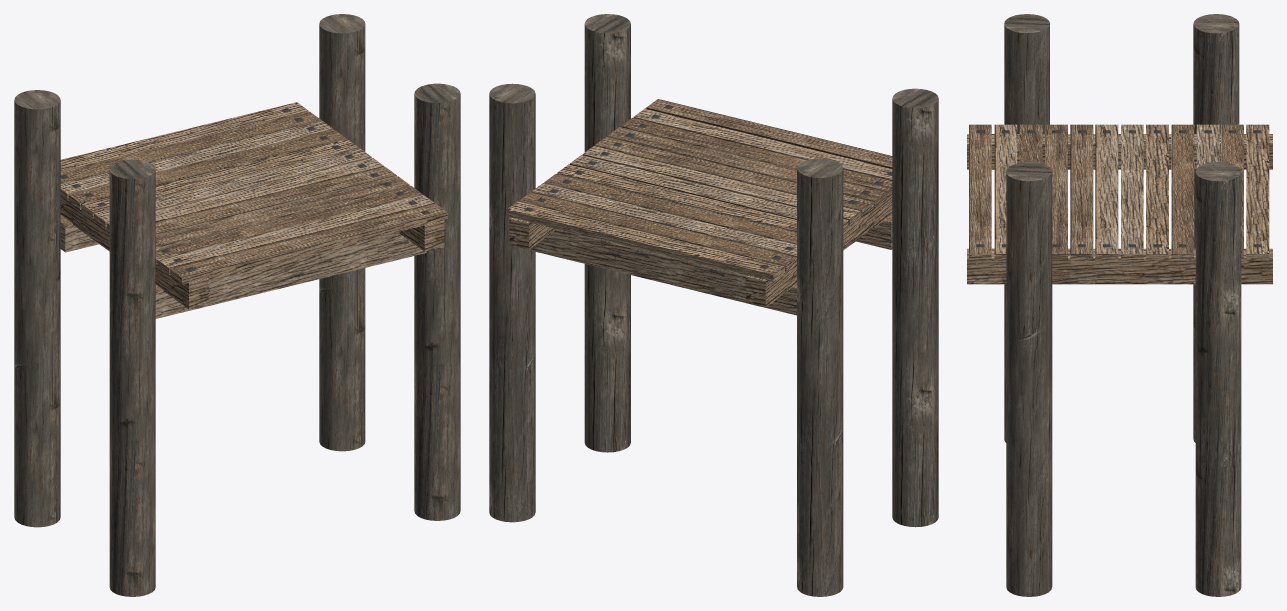
The model's file is nofunciona.fbx.
3 renders of one model, left to right at view 1: azimuth 30°, elevation 25°; view 2: azimuth 150°, elevation 25°; view 3: azimuth 270°, elevation 25°, orthographic.
Parts seen in each view (by area): view 1: Plataforma 4x4, Columna 6x0.002, Columna 6x0.004, Columna 6x0.3, Columna 6x0.001, Plataforma 4x4.002, Plataforma 4x4.001; view 2: Plataforma 4x4, Columna 6x0.004, Columna 6x0.002, Columna 6x0.001, Columna 6x0.3, Plataforma 4x4.001, Plataforma 4x4.002; view 3: Plataforma 4x4, Columna 6x0.3, Columna 6x0.001, Columna 6x0.004, Columna 6x0.002.
Part boxes in pixels (x1,y1,x2,y2): Plataforma 4x4: (60, 102, 447, 309); Columna 6x0.002: (109, 159, 155, 596); Columna 6x0.004: (14, 90, 60, 527); Columna 6x0.3: (414, 83, 460, 520); Columna 6x0.001: (319, 14, 365, 451); Plataforma 4x4.002: (155, 232, 426, 318); Plataforma 4x4.001: (60, 215, 99, 252); Plataforma 4x4: (506, 99, 892, 307); Columna 6x0.004: (797, 158, 843, 596); Columna 6x0.002: (892, 88, 938, 527); Columna 6x0.001: (489, 83, 535, 522); Columna 6x0.3: (584, 14, 630, 452); Plataforma 4x4.001: (531, 229, 796, 315); Plataforma 4x4.002: (856, 214, 892, 249); Plataforma 4x4: (967, 124, 1272, 284); Columna 6x0.3: (1006, 162, 1052, 596); Columna 6x0.001: (1195, 162, 1241, 596); Columna 6x0.004: (1193, 14, 1239, 442); Columna 6x0.002: (1004, 14, 1049, 442).
Bounding box in the file's own units: 520 × 601 × 400.
Materials: 3 (2 with a texture image).
